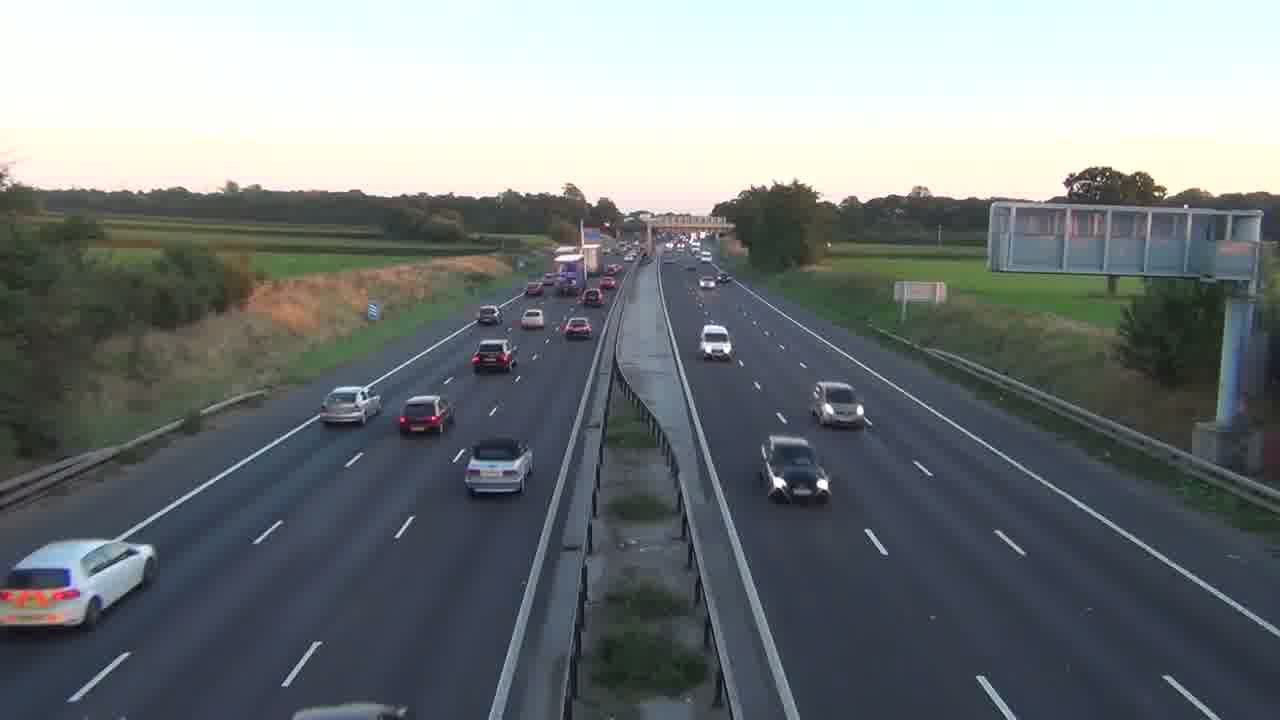car: (0, 537, 158, 631), (760, 434, 831, 505), (462, 434, 534, 496), (811, 380, 868, 429), (319, 384, 384, 425), (397, 393, 454, 436), (471, 338, 516, 373), (561, 316, 593, 340), (520, 308, 544, 330)
